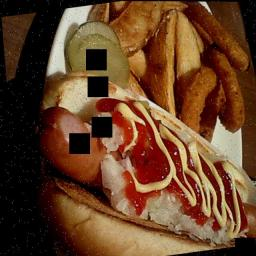hotdog: (16, 73, 256, 256), (105, 0, 256, 160)
